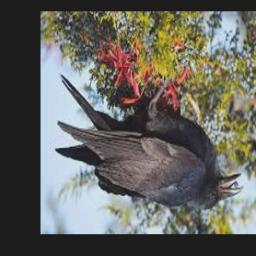Crow: (56, 73, 244, 209)
